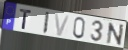0: (72, 16, 86, 40)
3: (90, 20, 105, 43)
I: (42, 11, 50, 35)
N: (106, 22, 126, 47)
T: (19, 8, 33, 31)
V: (53, 13, 71, 37)
